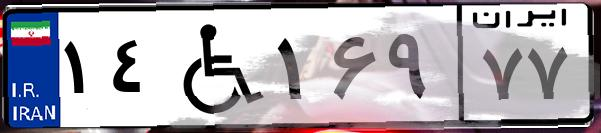1: (270, 28, 330, 110), (57, 26, 110, 100)
4: (110, 28, 158, 98)
6: (330, 28, 385, 110)
7: (475, 38, 525, 113), (525, 38, 570, 115)
9: (385, 28, 445, 110)
ژ (معلولین و جانبازان): (158, 12, 270, 120)
